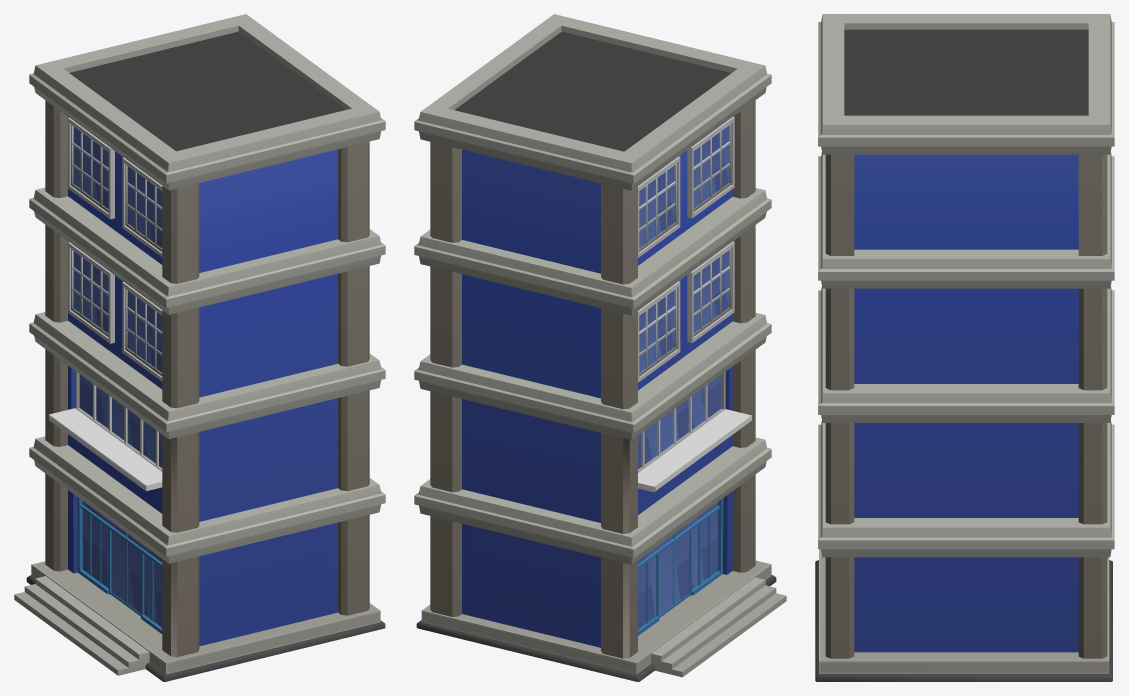
File: Building_9_1_AA.fbx
3 renders of one model, left to right at view 1: azimuth 30°, elevation 25°; view 2: azimuth 150°, elevation 25°; view 3: azimuth 270°, elevation 25°, orthographic. The views are drawn at different scales.
Parts seen in each view (by area): view 1: Building_9_1_AA; view 2: Building_9_1_AA; view 3: Building_9_1_AA.
Part boxes in pixels (x1,y1,x2,y2): Building_9_1_AA: (14, 14, 385, 681); Building_9_1_AA: (414, 14, 786, 681); Building_9_1_AA: (815, 14, 1114, 681).
Size of the model in its own units: 947 by 1855 by 906.
